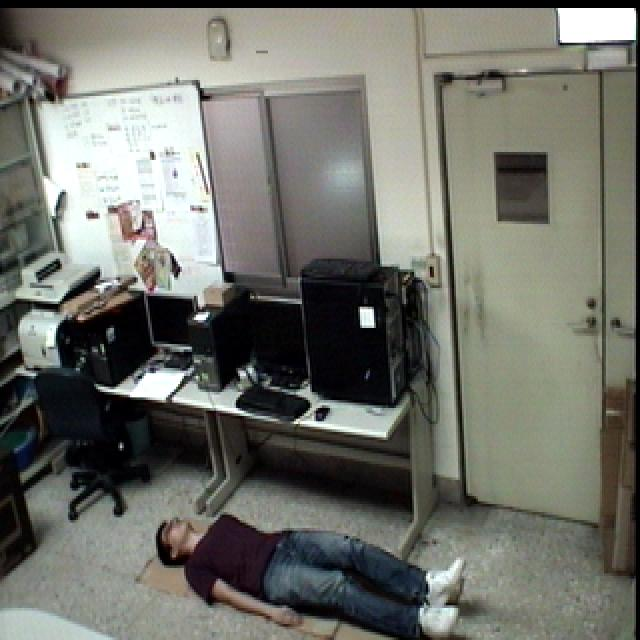lie: (149, 487, 472, 640)
